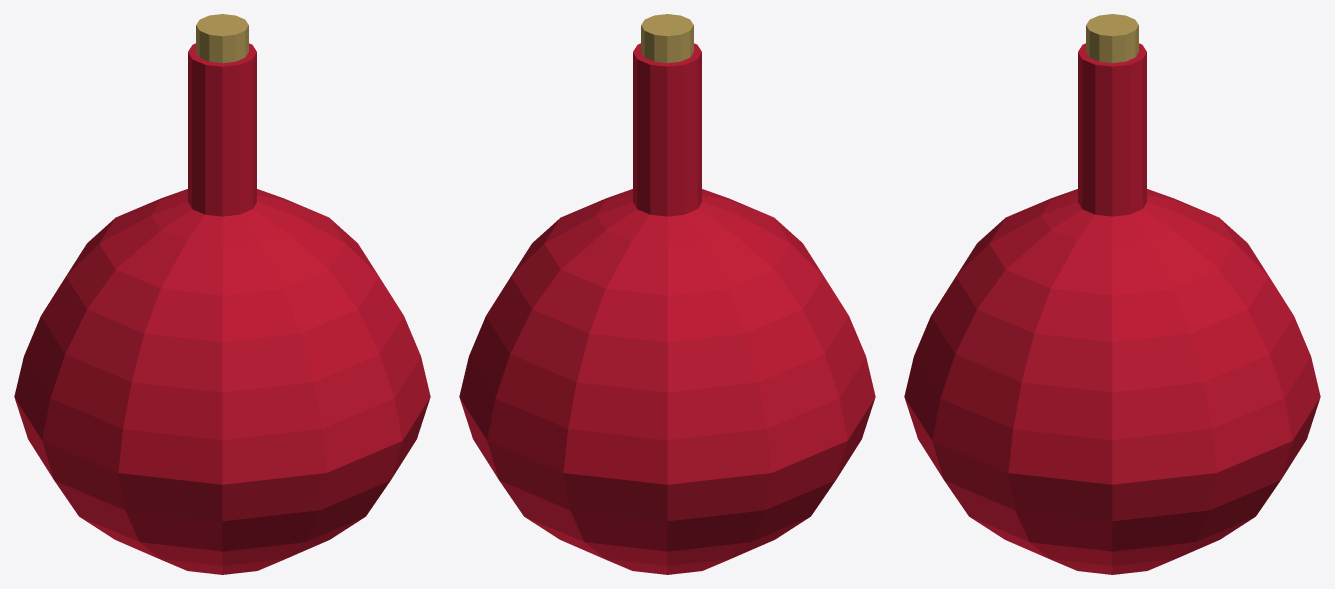
The model's file is potion_hp.glb.
The picture shows the model from 3 angles, left to right: view 1: azimuth 30°, elevation 25°; view 2: azimuth 150°, elevation 25°; view 3: azimuth 270°, elevation 25°; orthographic projection.
Visible parts, largest first — view 1: BigPotion_Stamina; view 2: BigPotion_Stamina; view 3: BigPotion_Stamina.
Boxes of the visible parts, x1,y1,x2,y2 form: BigPotion_Stamina: (14, 14, 430, 574); BigPotion_Stamina: (459, 14, 875, 574); BigPotion_Stamina: (904, 14, 1320, 574).
Size of the model in its own units: 0.3574 by 0.4928 by 0.3574.
